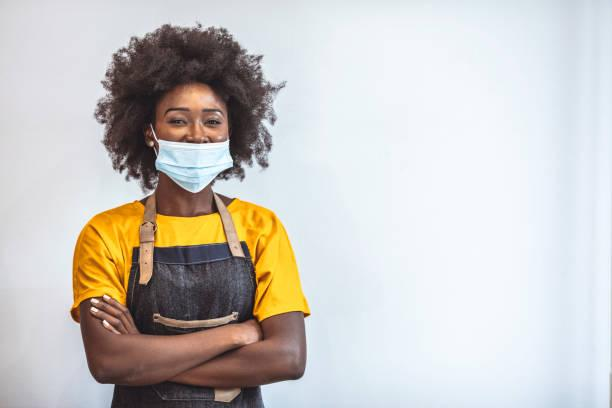mask_weared_incorrect: (144, 82, 239, 195)
